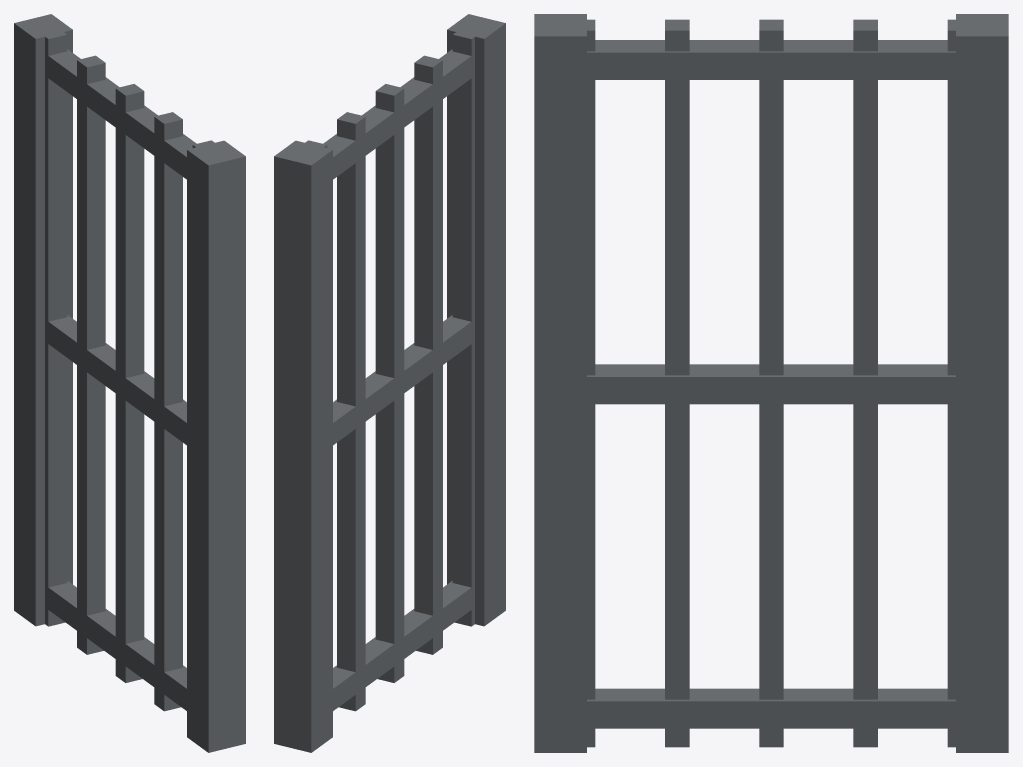
The model's file is CellDoor__Barred.fbx.
3 renders of one model, left to right at view 1: azimuth 30°, elevation 25°; view 2: azimuth 150°, elevation 25°; view 3: azimuth 270°, elevation 25°, orthographic. The views are drawn at different scales.
Parts seen in each view (by area): view 1: CellDoor__Barred; view 2: CellDoor__Barred; view 3: CellDoor__Barred.
Part boxes in pixels (x1=…): CellDoor__Barred: x1=14, y1=14, x2=245, y2=752; CellDoor__Barred: x1=274, y1=14, x2=505, y2=752; CellDoor__Barred: x1=534, y1=14, x2=1008, y2=752.
Size of the model in its own units: 14 by 210 by 126.
Materials: 1 (1 with a texture image).
